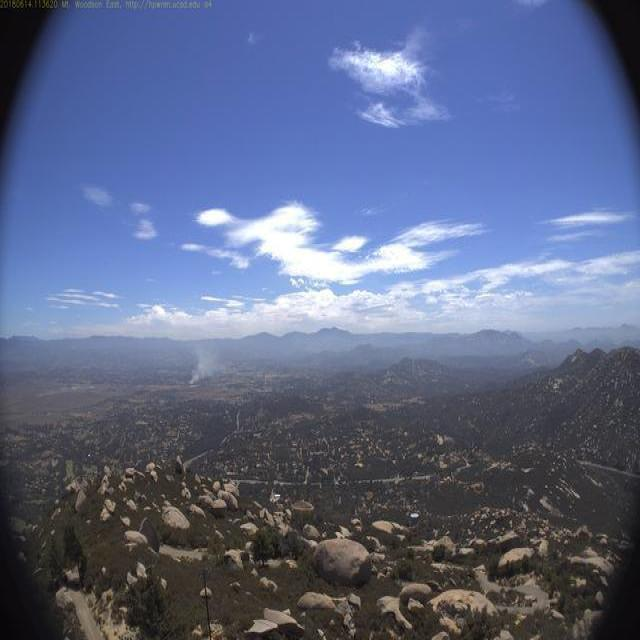smoke: (180, 318, 238, 386)
